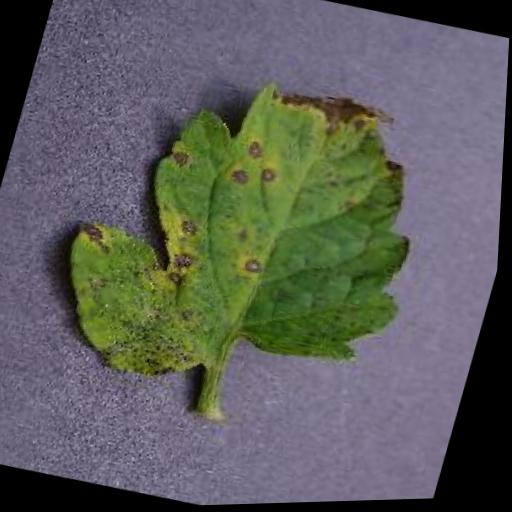Septoria: (44, 41, 460, 433)
